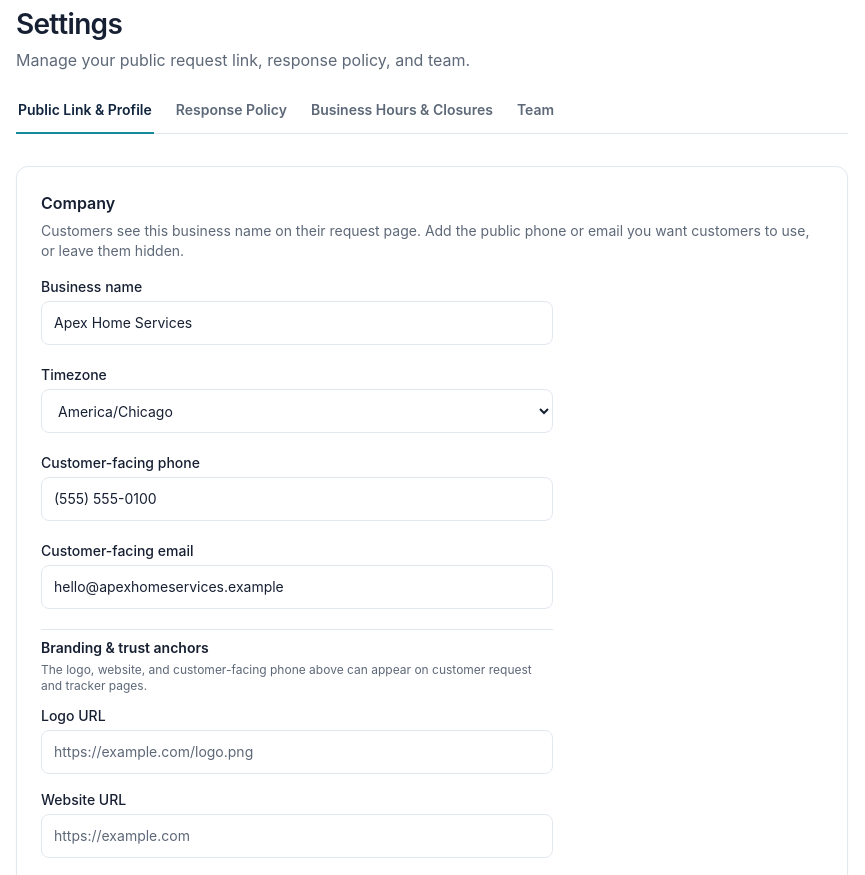
Test: Settings branding draft and preview › reflects unsaved business-name and logo edits in the preview without saving
Replace the text in the field labelled "Business name" with "Zenith Plumbing Co" at (297, 323), box [41,301,553,345]
(page scrolled)
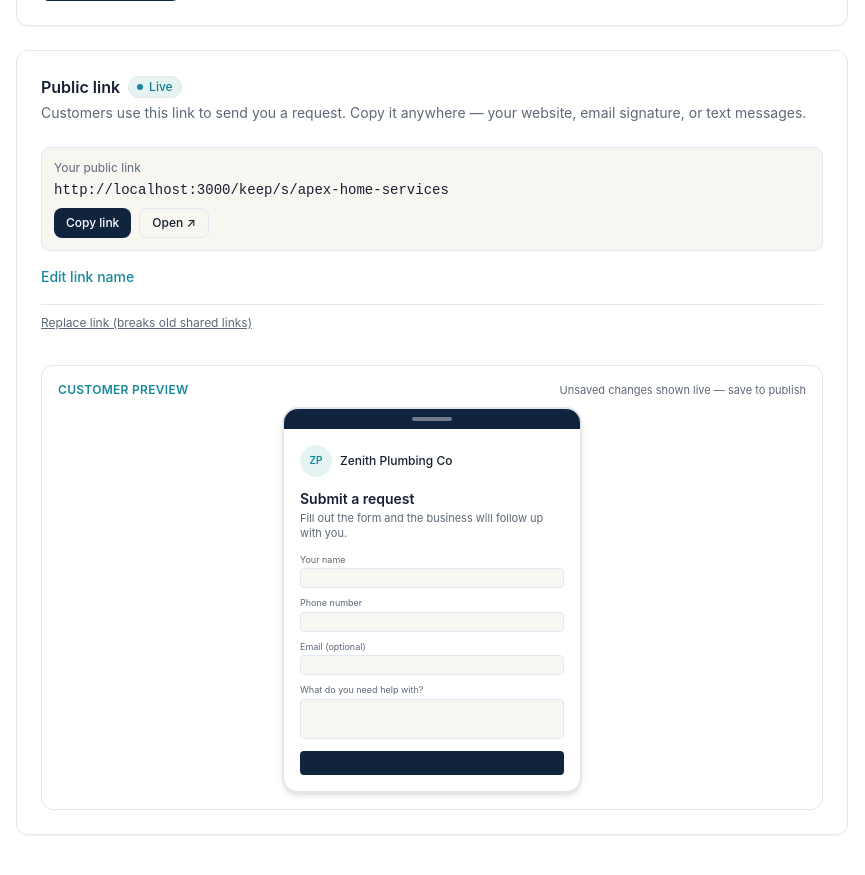
Check: the text "ZP" is shown, box [300,444,332,476]
Check: the text "Zenith Plumbing Co" is shown, box [340,452,452,468]
